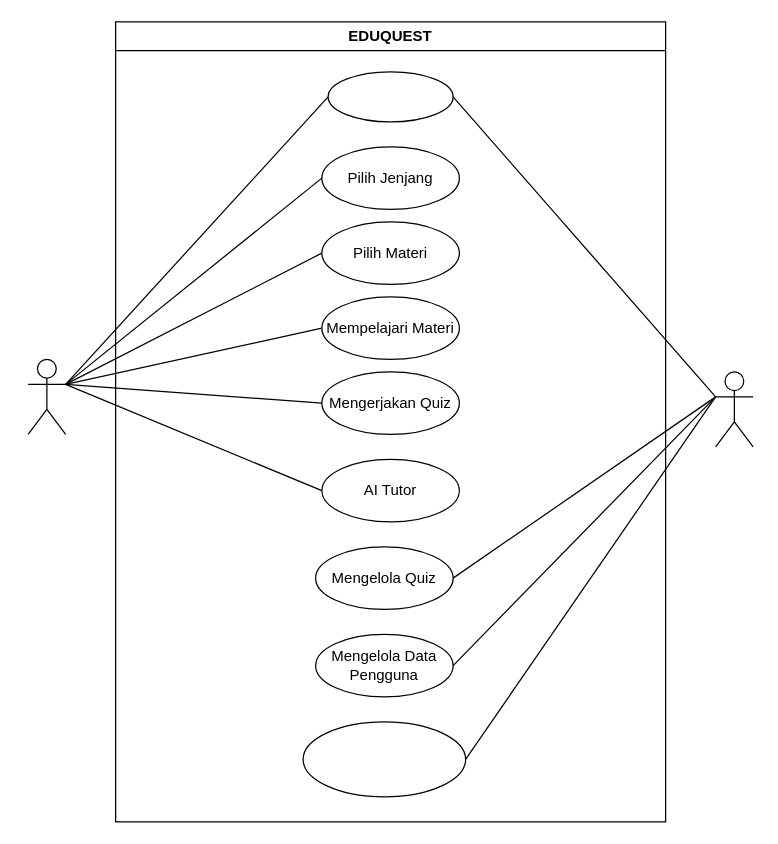
The diagram is 778 pixels wide and 844 high, and some of its shapes have lost their labels. Each missing label, with the box of its shape:
Admin: (714, 371, 753, 447)
Login: (327, 71, 453, 122)
Mengelola Materi dan MataPelajaran: (302, 721, 466, 797)
Student: (27, 358, 66, 434)
